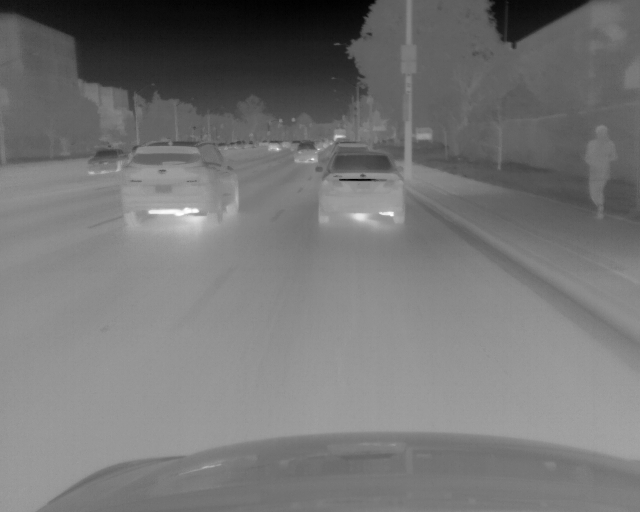car: (121, 137, 240, 237), (315, 149, 408, 223), (87, 147, 125, 178), (293, 141, 317, 164), (333, 141, 371, 155), (266, 139, 280, 152), (289, 140, 300, 151), (218, 141, 228, 152)
people: (583, 124, 618, 222)
